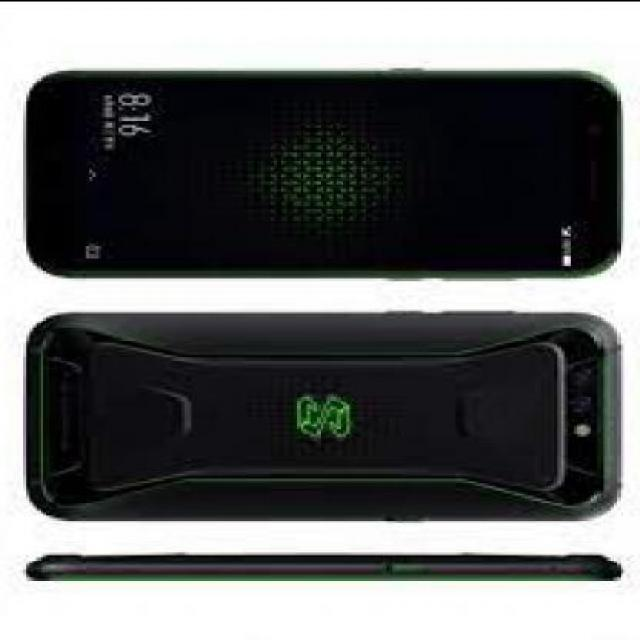phone: (23, 306, 626, 524), (23, 64, 626, 280)
